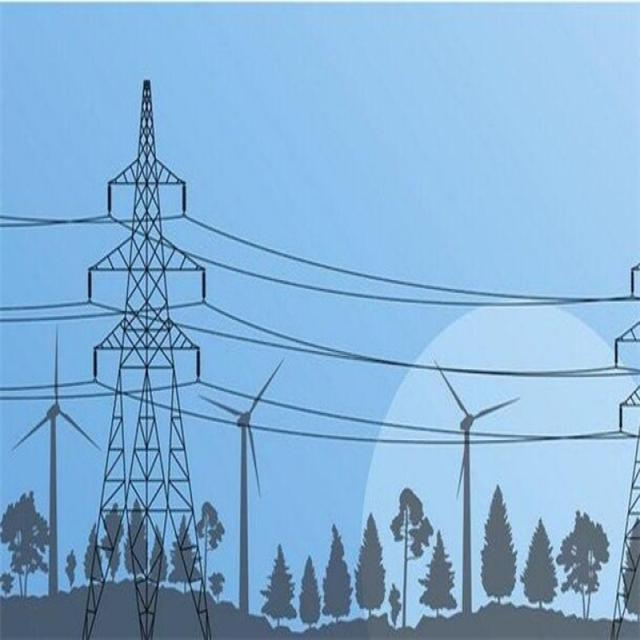non-critical vegetation: (76, 72, 210, 623)
